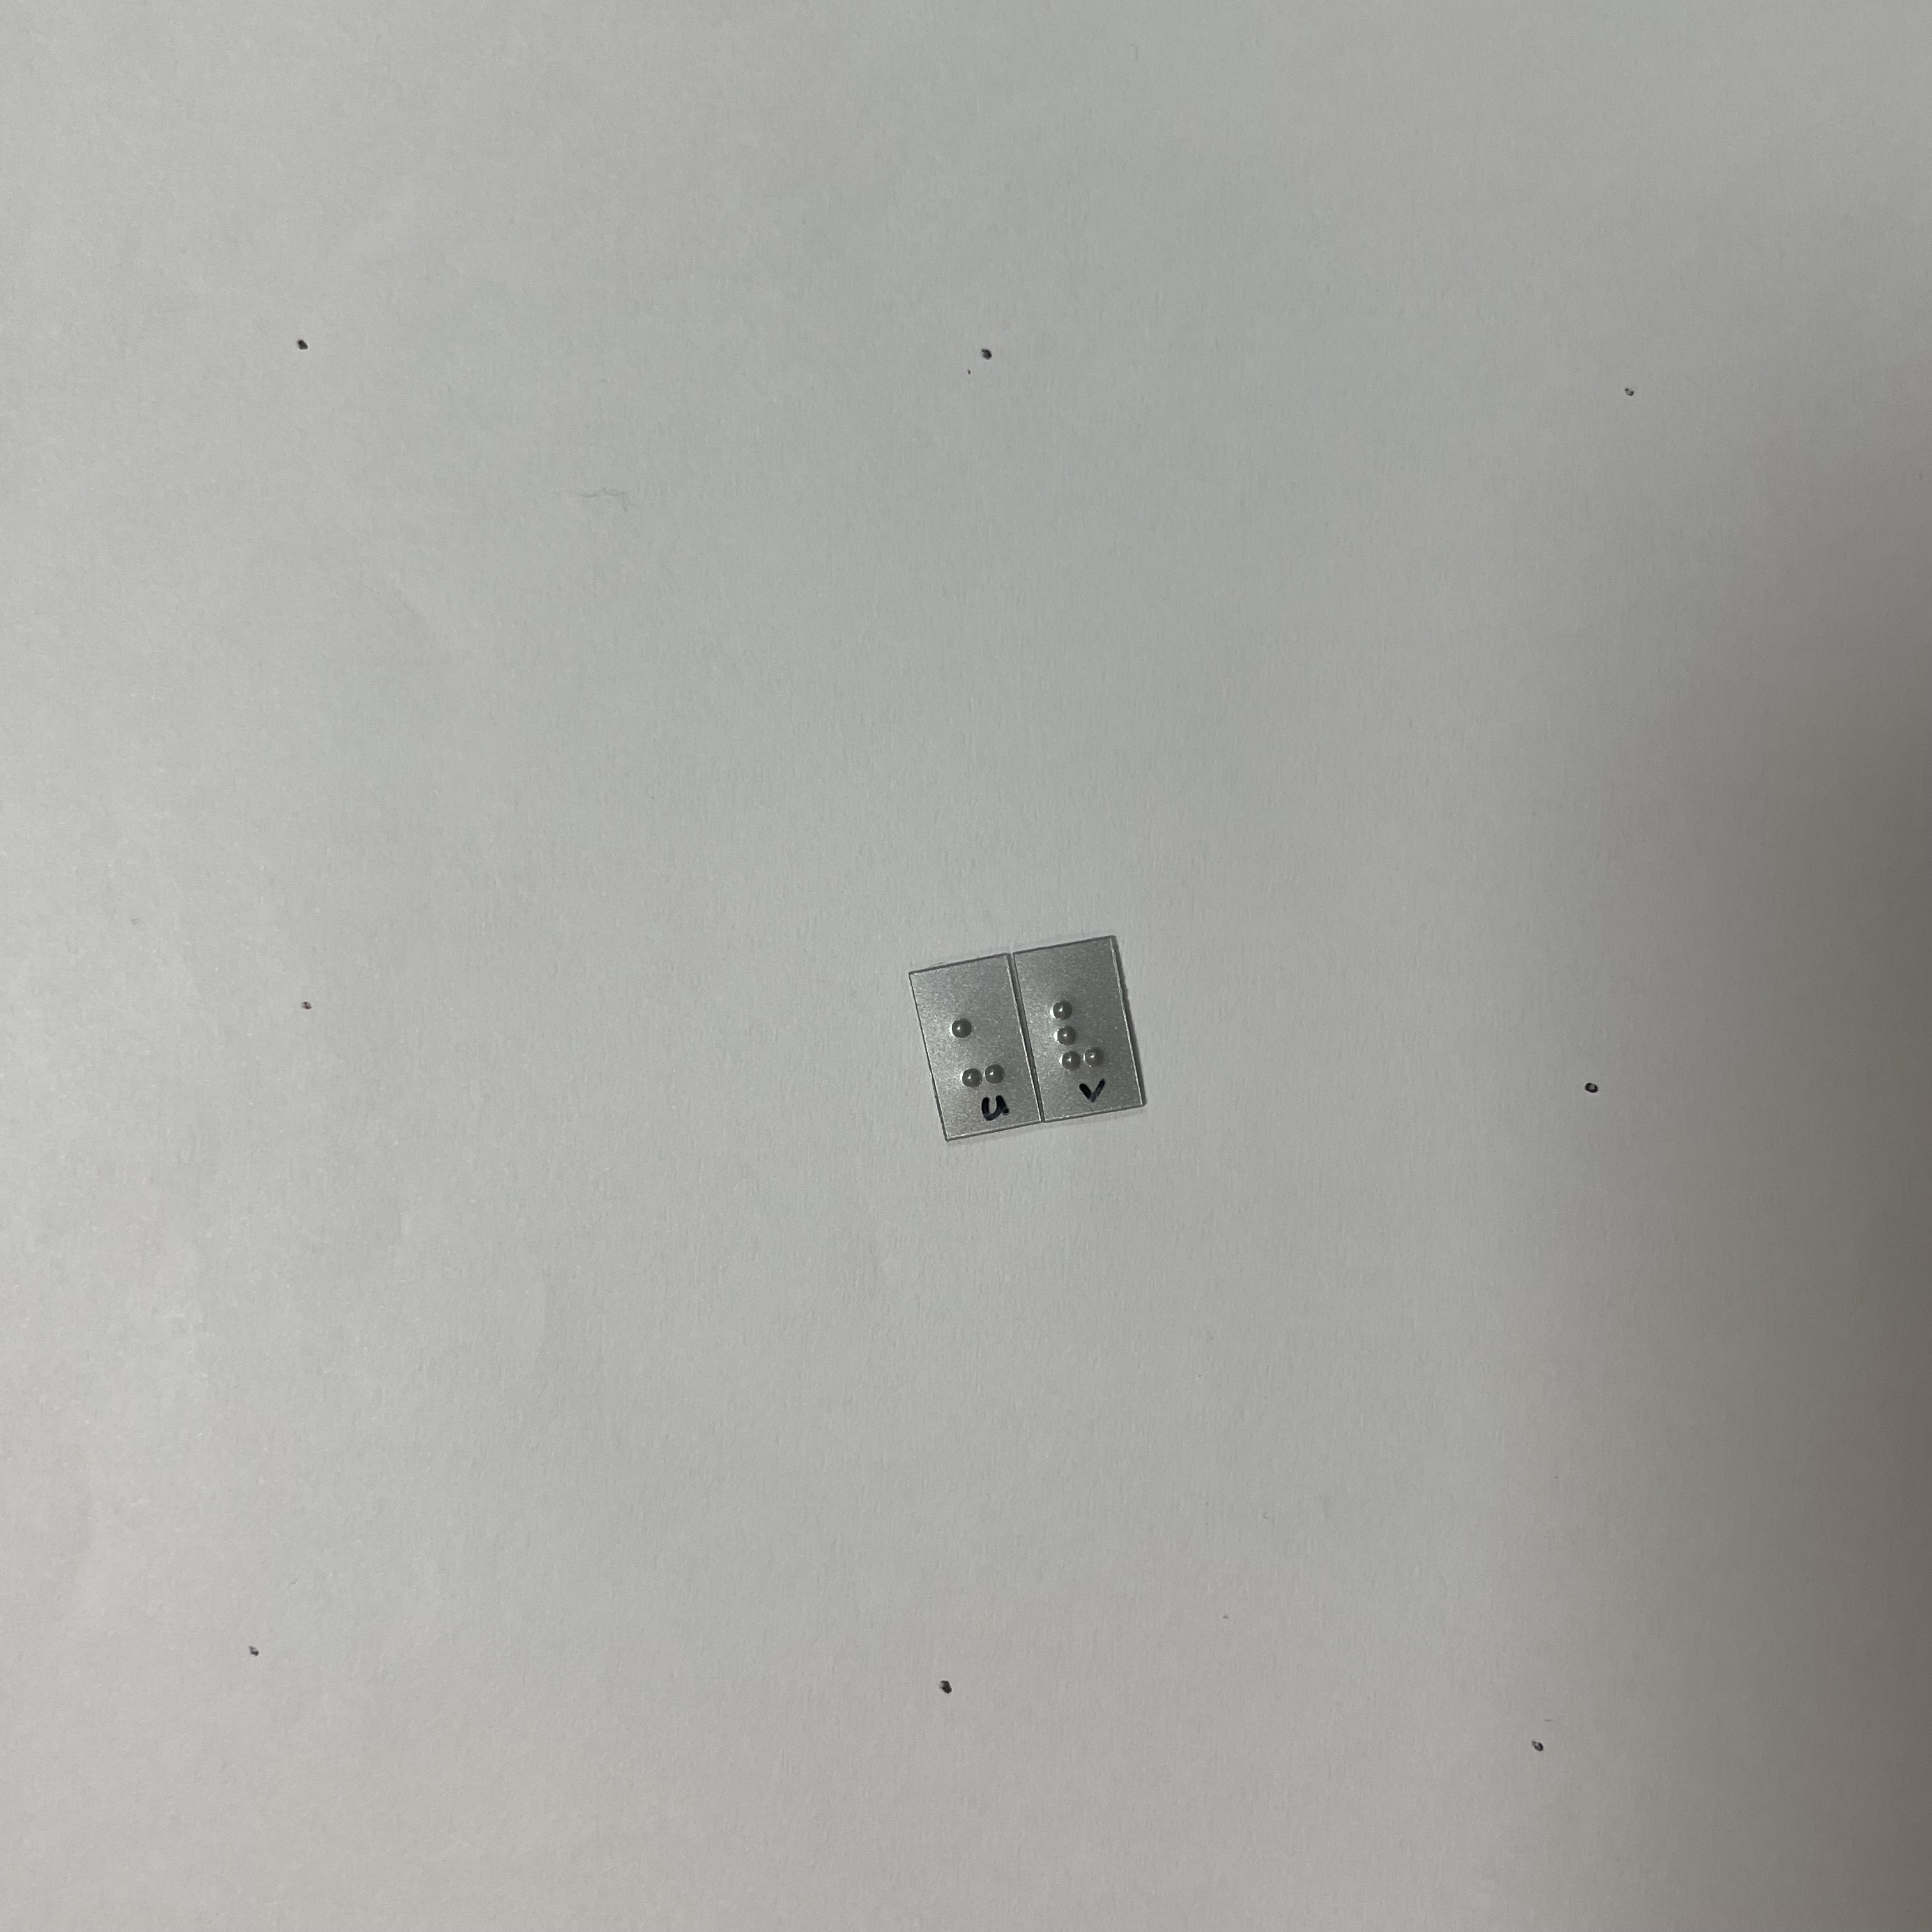u: (947, 1001, 1015, 1098)
v: (1046, 985, 1115, 1077)
